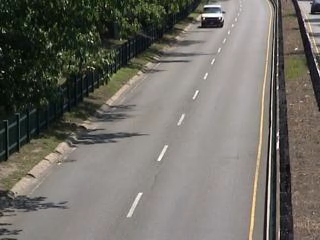truck: (199, 2, 227, 31)
